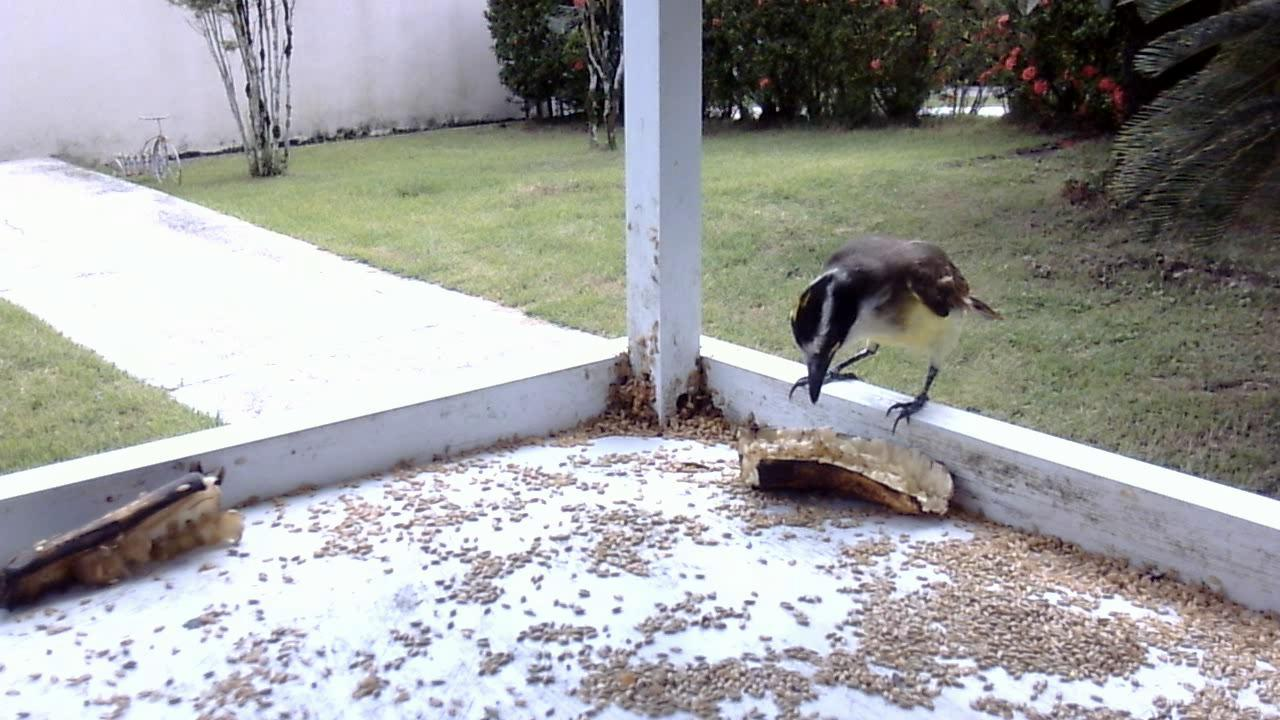bem_te_vi: (783, 222, 1004, 452)
